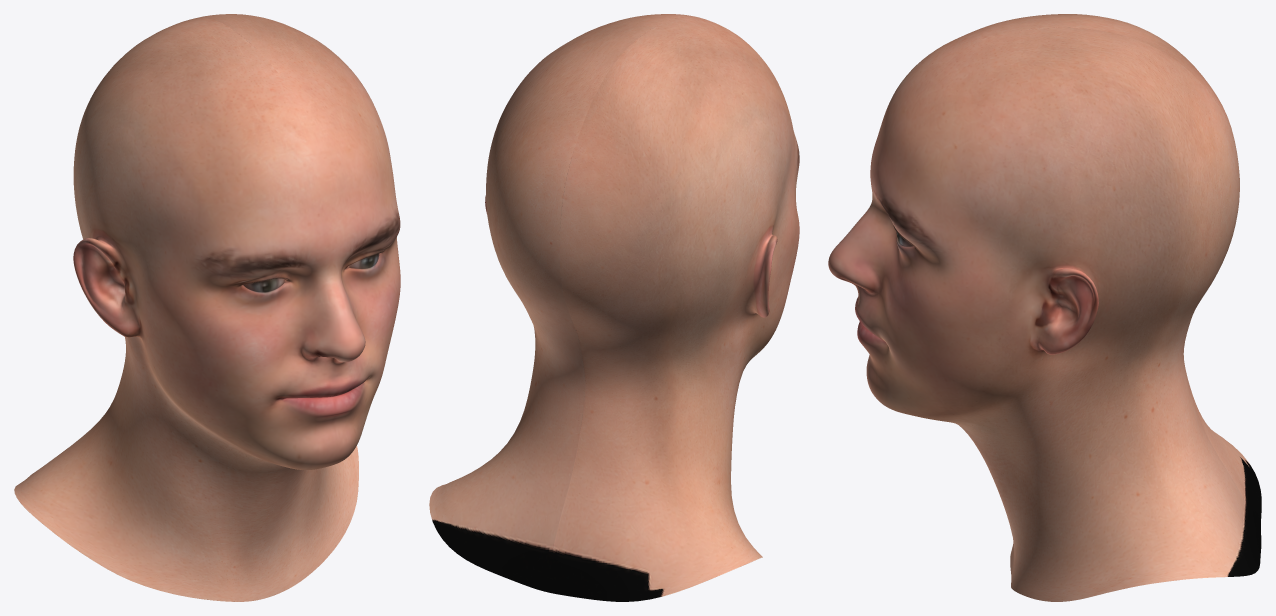
The model's file is JackLondon_Head.glb.
3 views of the same model, side by side, from view 1: azimuth 30°, elevation 25°; view 2: azimuth 150°, elevation 25°; view 3: azimuth 270°, elevation 25° (orthographic). The views are drawn at different scales.
Parts seen in each view (by area): view 1: FBHead; view 2: FBHead; view 3: FBHead.
Part boxes in pixels (bbox=[...]): FBHead: bbox=[14, 14, 400, 601]; FBHead: bbox=[429, 14, 799, 601]; FBHead: bbox=[828, 14, 1261, 601].
Bounding box in the file's own units: 1.96 × 3.18 × 2.27.
1 material, 1 textured.
